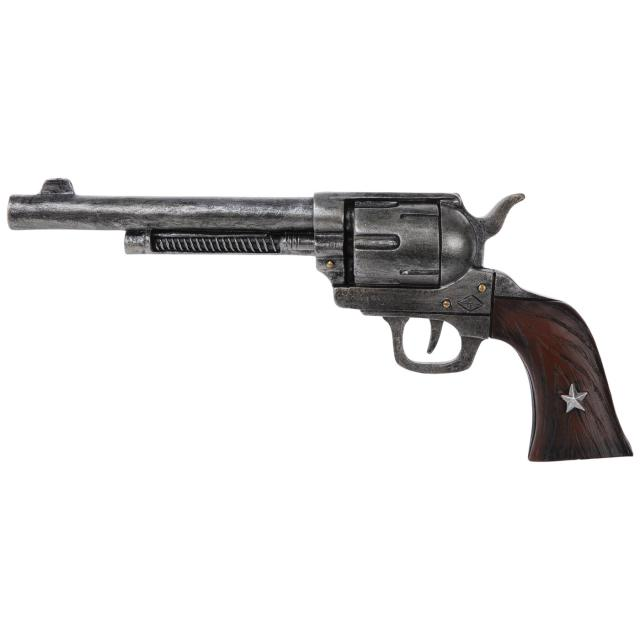HandGun: (7, 178, 635, 464)
